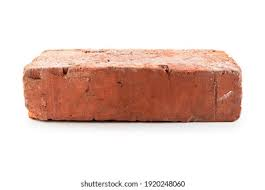brick: (24, 61, 241, 122)
